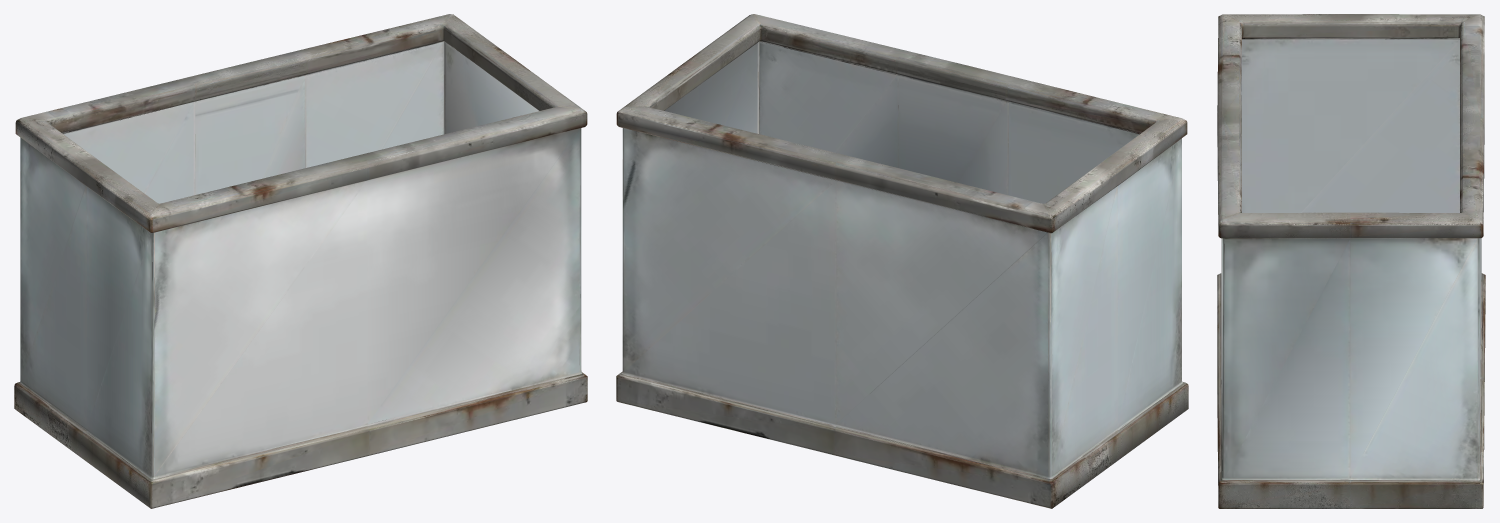
File: fish-tank.glb
3 views of the same model, side by side, from view 1: azimuth 30°, elevation 25°; view 2: azimuth 150°, elevation 25°; view 3: azimuth 270°, elevation 25° (orthographic).
Size of the model in its own units: 1.9 by 1.21 by 1.03.
Materials: 1 (1 with a texture image).
